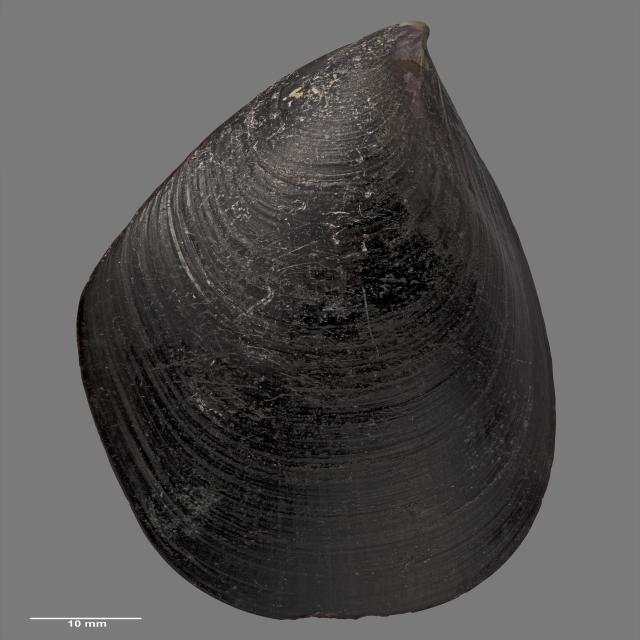Mytilus_galloprovincialis: (75, 19, 562, 618)
